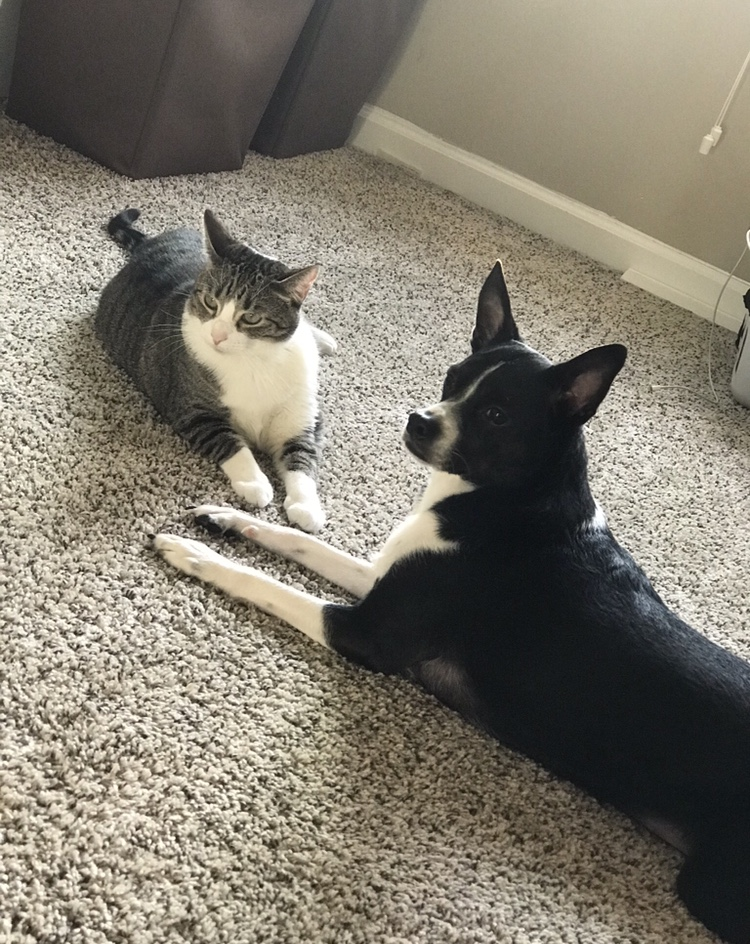Harley: (148, 254, 750, 905)
